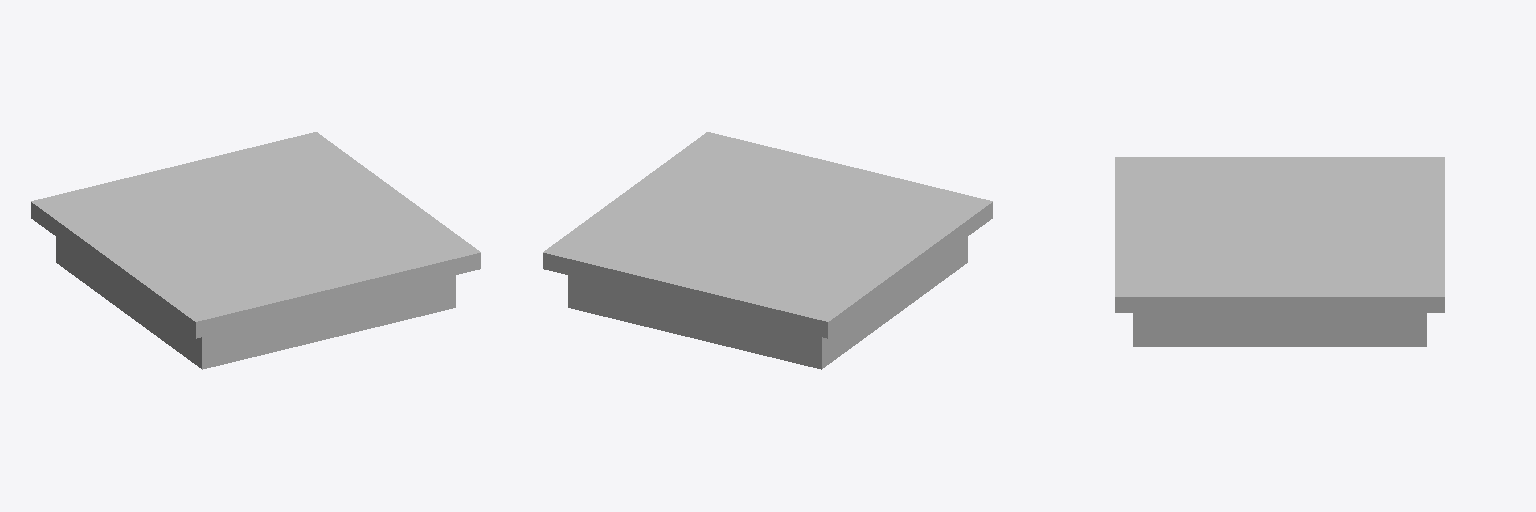
Rendered from Desert.obj.
3 views of the same model, side by side, from view 1: azimuth 30°, elevation 25°; view 2: azimuth 150°, elevation 25°; view 3: azimuth 270°, elevation 25° (orthographic).
Visible parts, largest first — view 1: Desert; view 2: Desert; view 3: Desert.
Boxes of the visible parts, x1=… form: Desert: x1=31, y1=132, x2=480, y2=369; Desert: x1=543, y1=132, x2=992, y2=369; Desert: x1=1115, y1=157, x2=1444, y2=346.
Size of the model in its own units: 36 by 7 by 36.